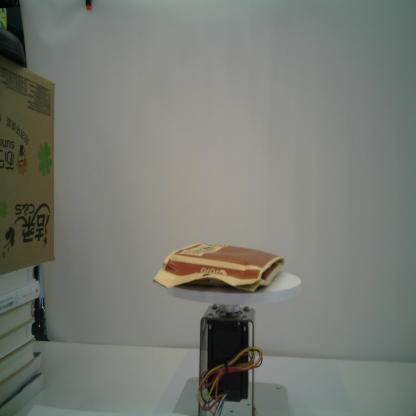Dried Food: (150, 239, 286, 296)
